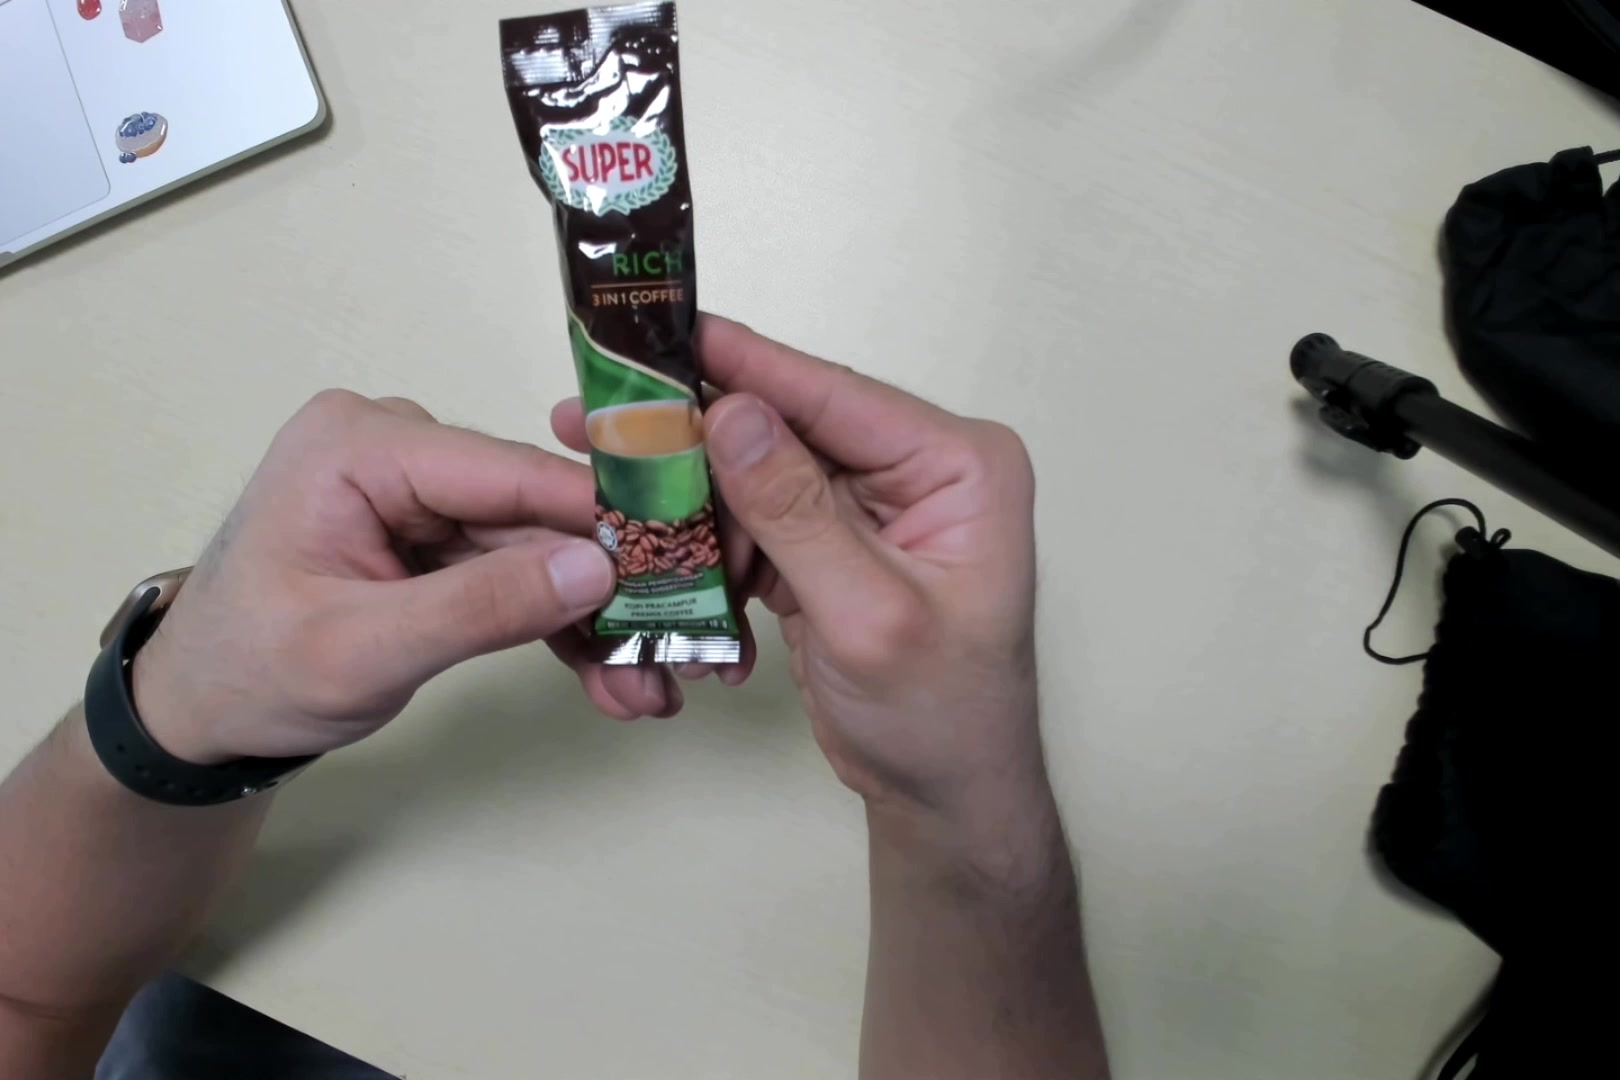Coffee(Powder)_0-99g_Halal_NonHealthy: (495, 11, 742, 677)
